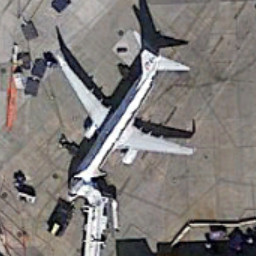Airplane: (33, 22, 206, 205)
